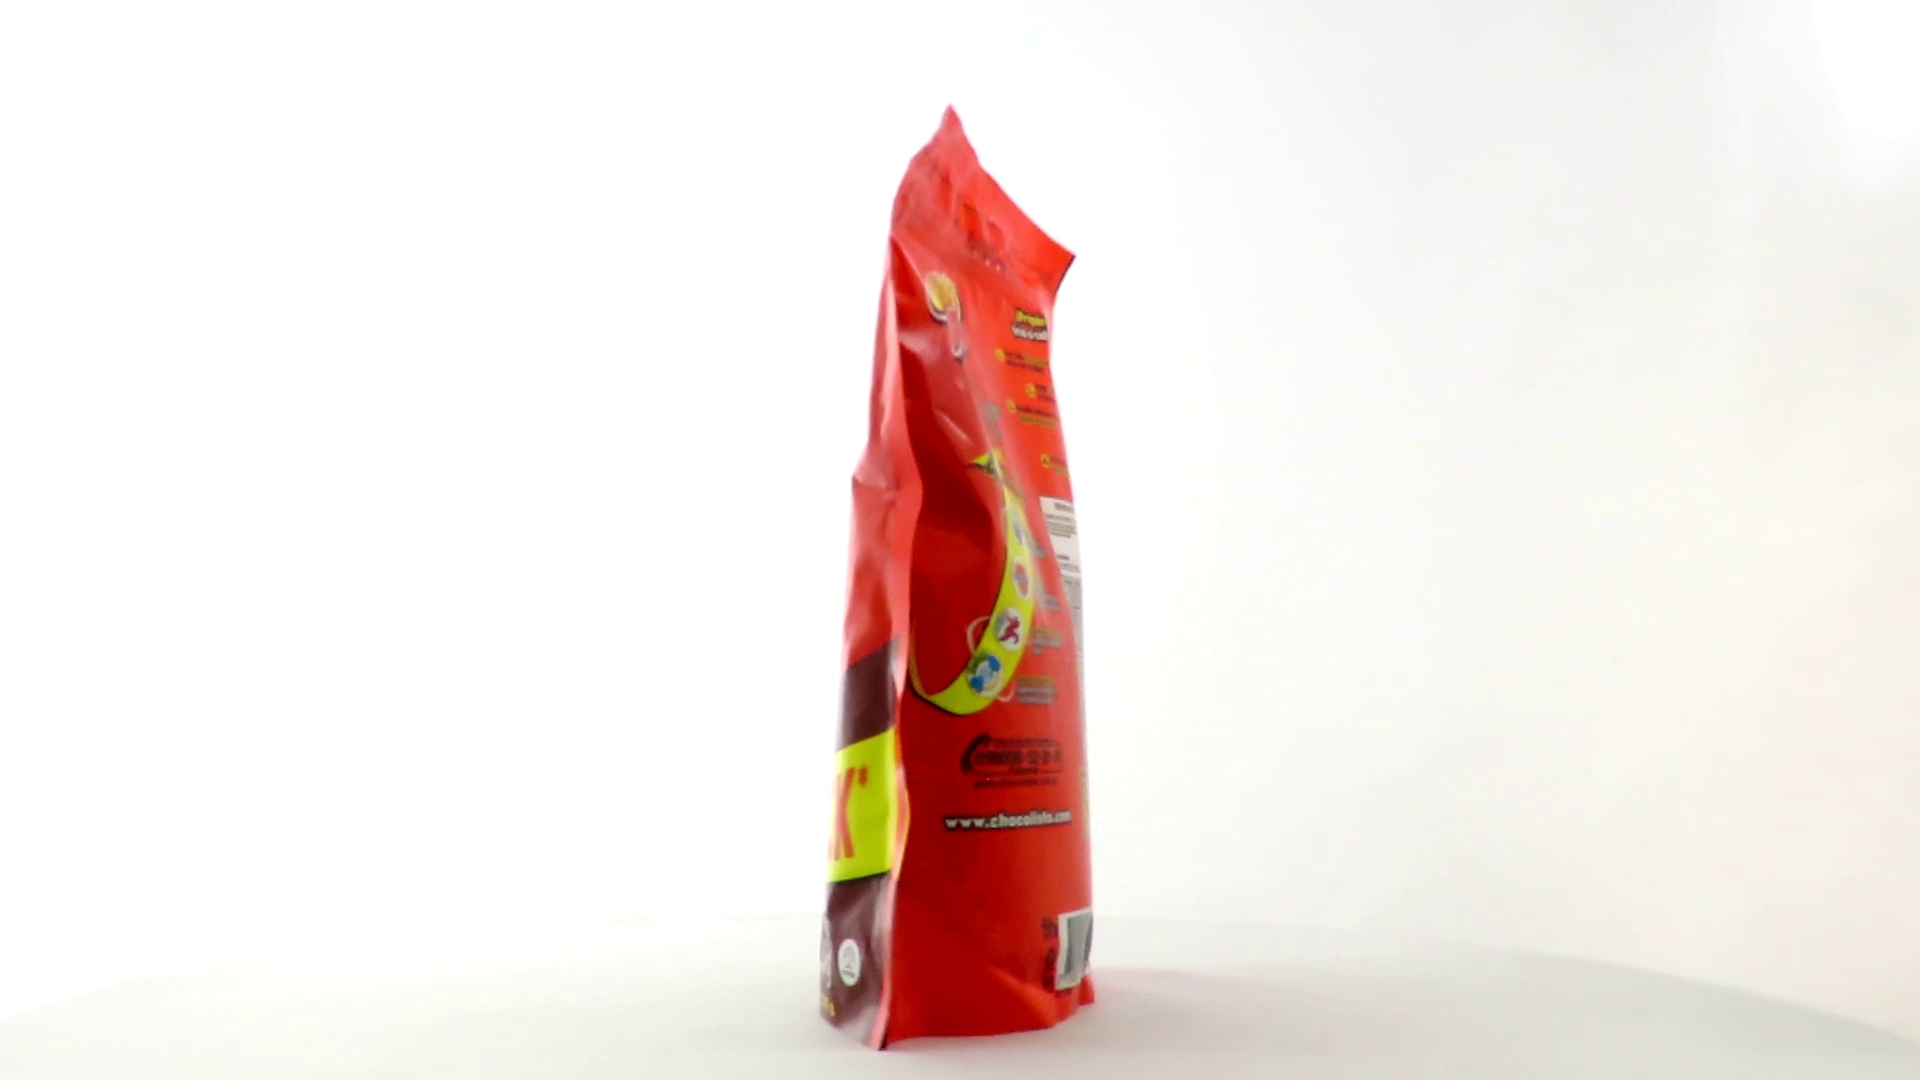COL0170103DYP36000: (822, 99, 1102, 1059)
